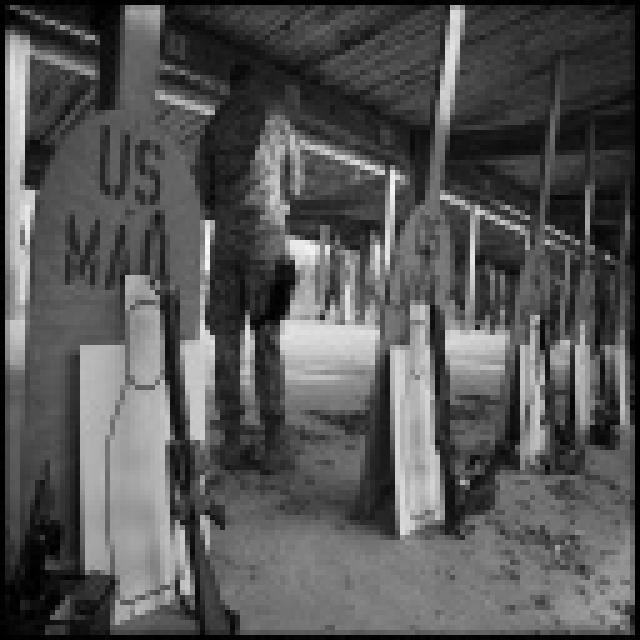Rifle: (120, 216, 283, 640), (410, 260, 486, 568), (511, 249, 591, 502), (580, 240, 640, 465)
